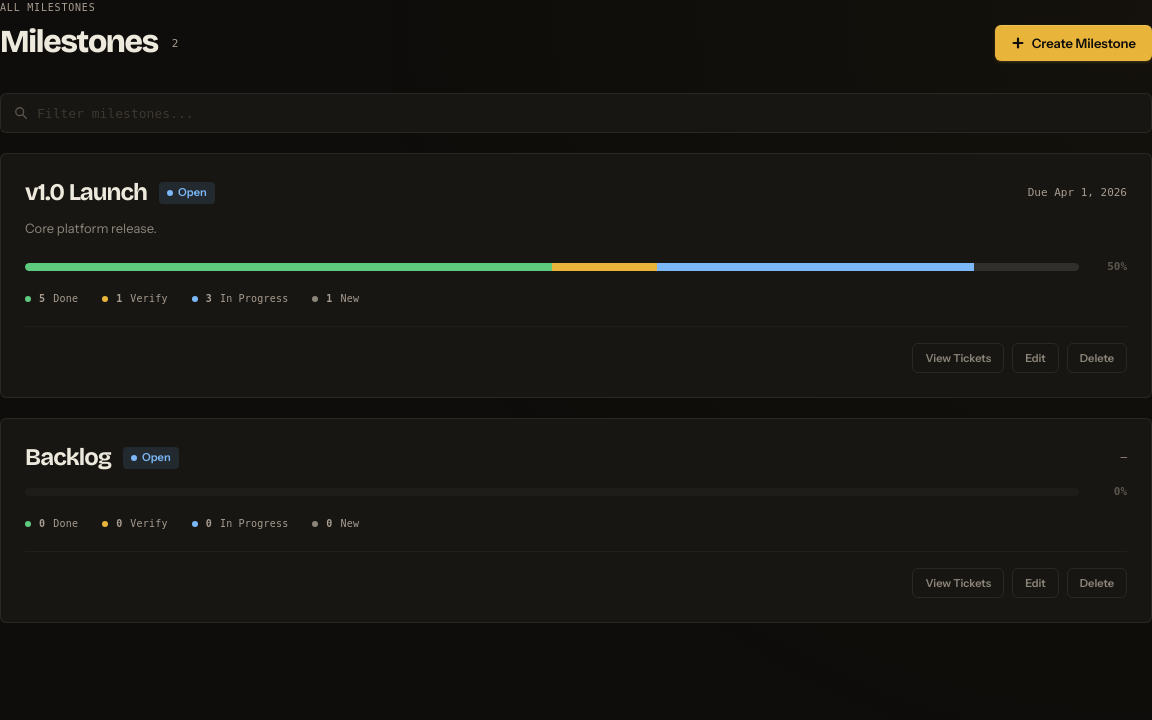
MilestoneListPage › admin CRUD › opens edit modal with pre-filled data
Click the button "Edit" below "50".
click(1035, 358)  # box [1012, 343, 1059, 373]
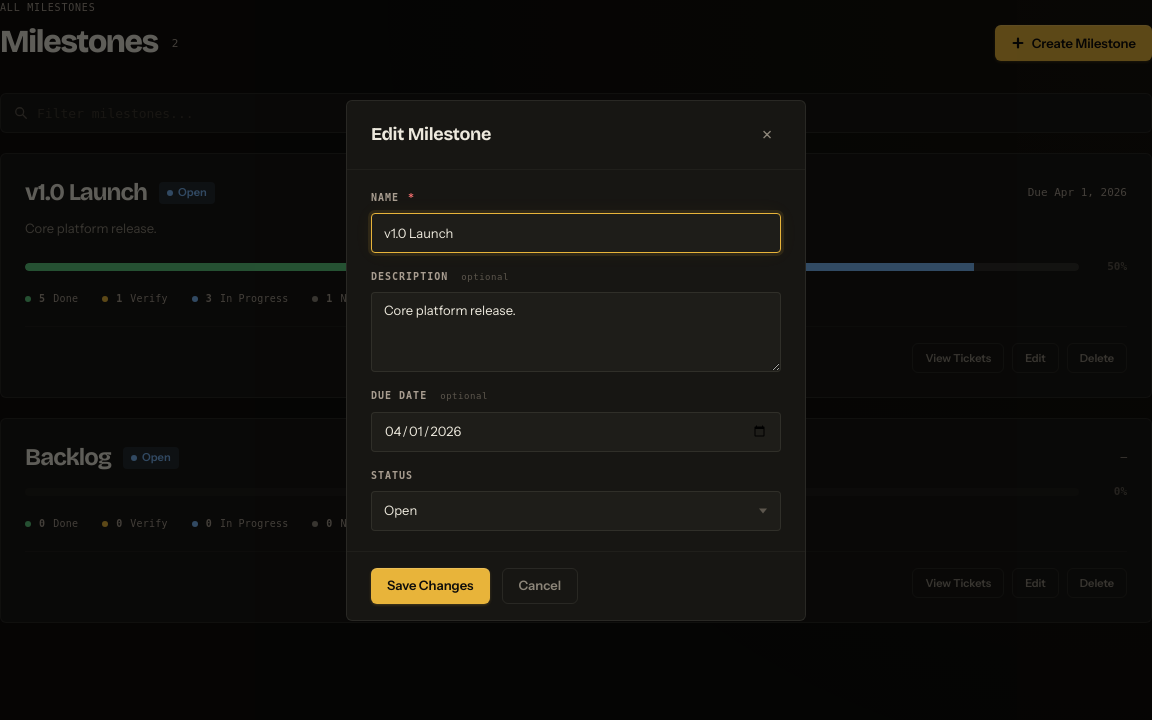
Expected: the dialog "Edit Milestone" is shown, [346, 100, 806, 620]
Expected: the field labelled "Name *" holds "v1.0 Launch", [371, 212, 781, 252]
Expected: the text box labelled "Description optional" holds "Core platform release.", [371, 292, 781, 372]
